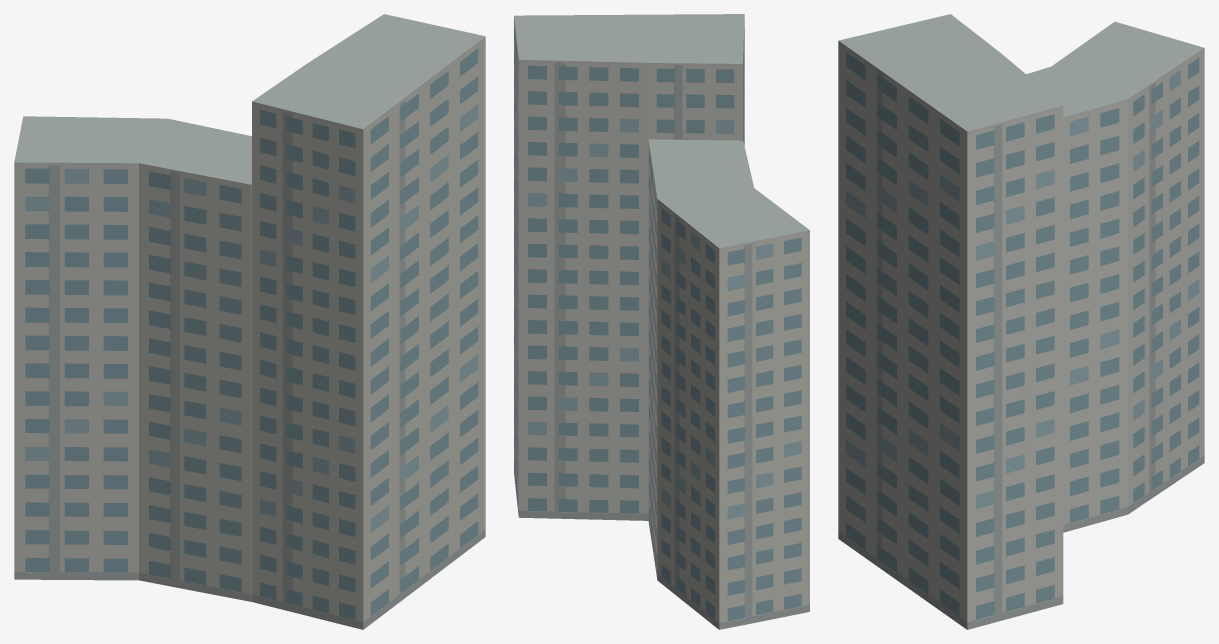
Rendered from residential-4c1c463a-7199-42b5-9a29-fe379b76a834.glb.
3 views of the same model, side by side, from view 1: azimuth 30°, elevation 25°; view 2: azimuth 150°, elevation 25°; view 3: azimuth 270°, elevation 25° (orthographic). The views are drawn at different scales.
Parts seen in each view (by area): view 1: residential-4c1c463a-7199-42b5-9a29-fe379b76a834.tmp; view 2: residential-4c1c463a-7199-42b5-9a29-fe379b76a834.tmp; view 3: residential-4c1c463a-7199-42b5-9a29-fe379b76a834.tmp.
Part boxes in pixels (box(x1,y1,x2,y2)): residential-4c1c463a-7199-42b5-9a29-fe379b76a834.tmp: box(14, 14, 485, 629); residential-4c1c463a-7199-42b5-9a29-fe379b76a834.tmp: box(514, 14, 809, 629); residential-4c1c463a-7199-42b5-9a29-fe379b76a834.tmp: box(838, 14, 1204, 629).
Bounding box in the file's own units: 45.62 × 54.9 × 36.56.
